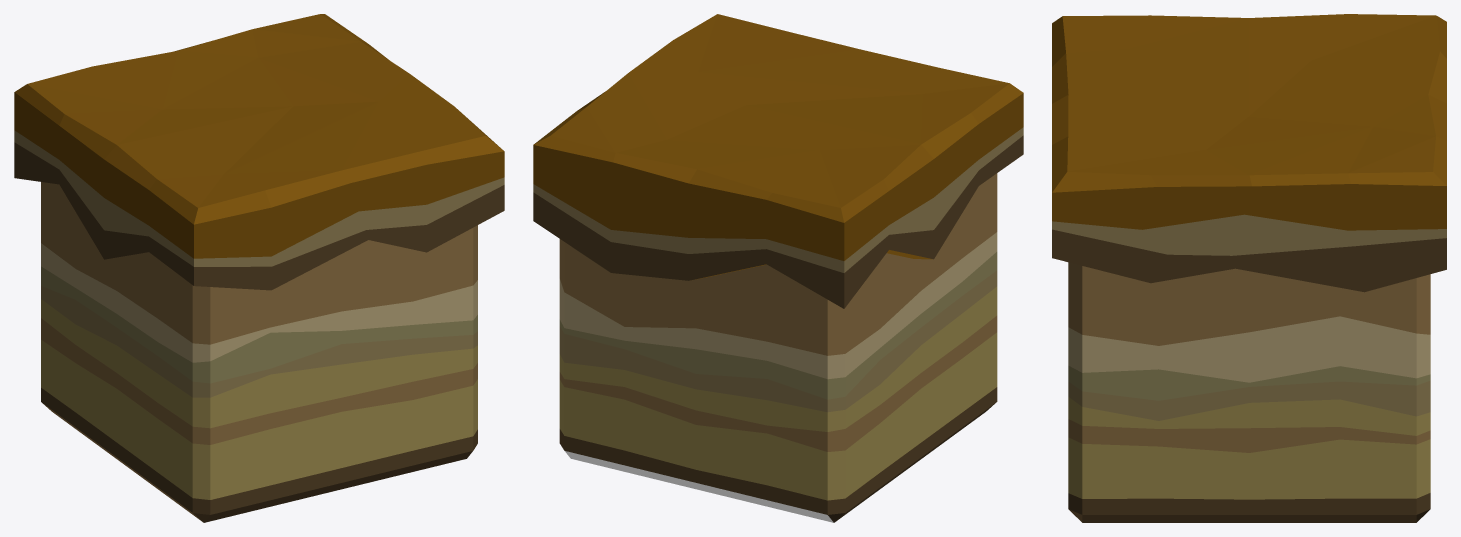
The model's file is Runestrife-Land-Dirt-Flat.fbx.
3 views of the same model, side by side, from view 1: azimuth 30°, elevation 25°; view 2: azimuth 150°, elevation 25°; view 3: azimuth 270°, elevation 25° (orthographic). The views are drawn at different scales.
Parts seen in each view (by area): view 1: Cube; view 2: Cube; view 3: Cube.
Boxes of the visible parts, left/top/right/bottom form: Cube: left=14, top=14, right=504, bottom=522; Cube: left=533, top=14, right=1023, bottom=522; Cube: left=1052, top=14, right=1446, bottom=522.
Bounding box in the file's own units: 300 × 300 × 300.
